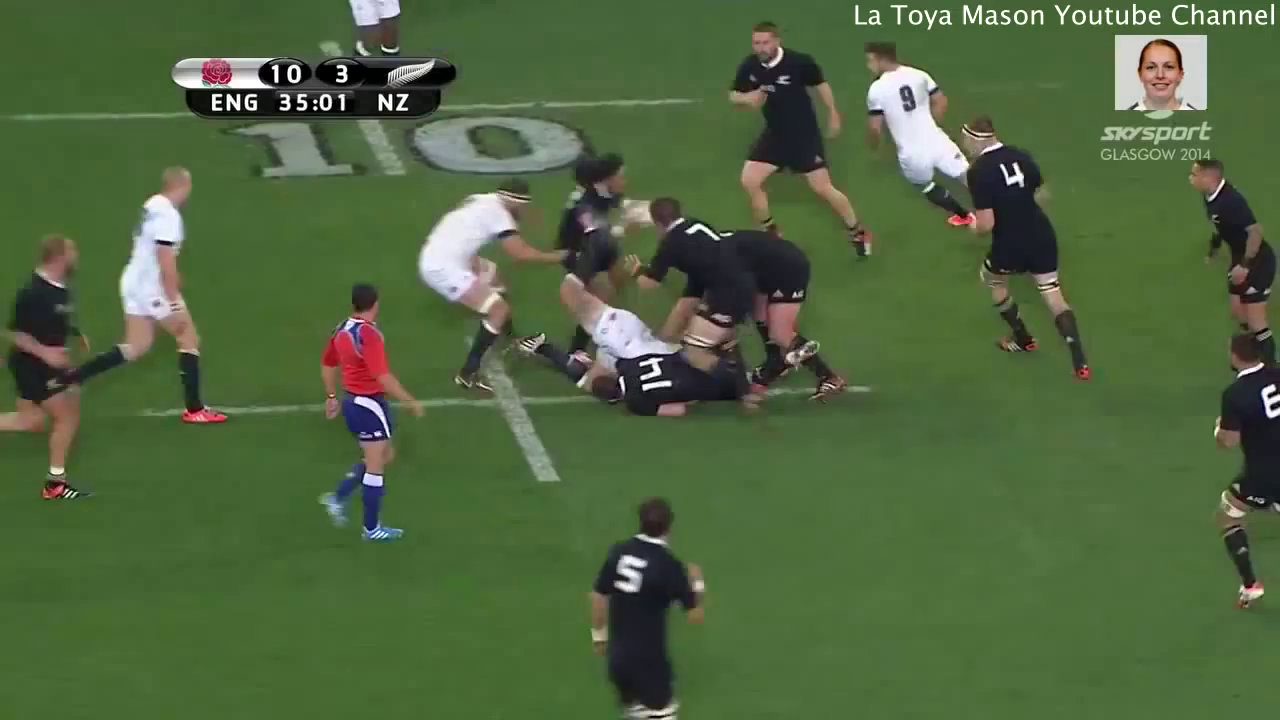10_metre: (123, 315, 913, 495), (1, 28, 712, 188)
player: (48, 154, 238, 431), (710, 8, 885, 264), (945, 112, 1104, 384), (400, 171, 566, 410), (573, 487, 724, 720), (305, 272, 415, 564), (839, 39, 1000, 234), (635, 191, 779, 386), (708, 220, 849, 411), (1, 228, 97, 505), (1199, 321, 1280, 626), (549, 140, 672, 339), (1177, 144, 1280, 367), (537, 281, 688, 411), (586, 342, 777, 436)
